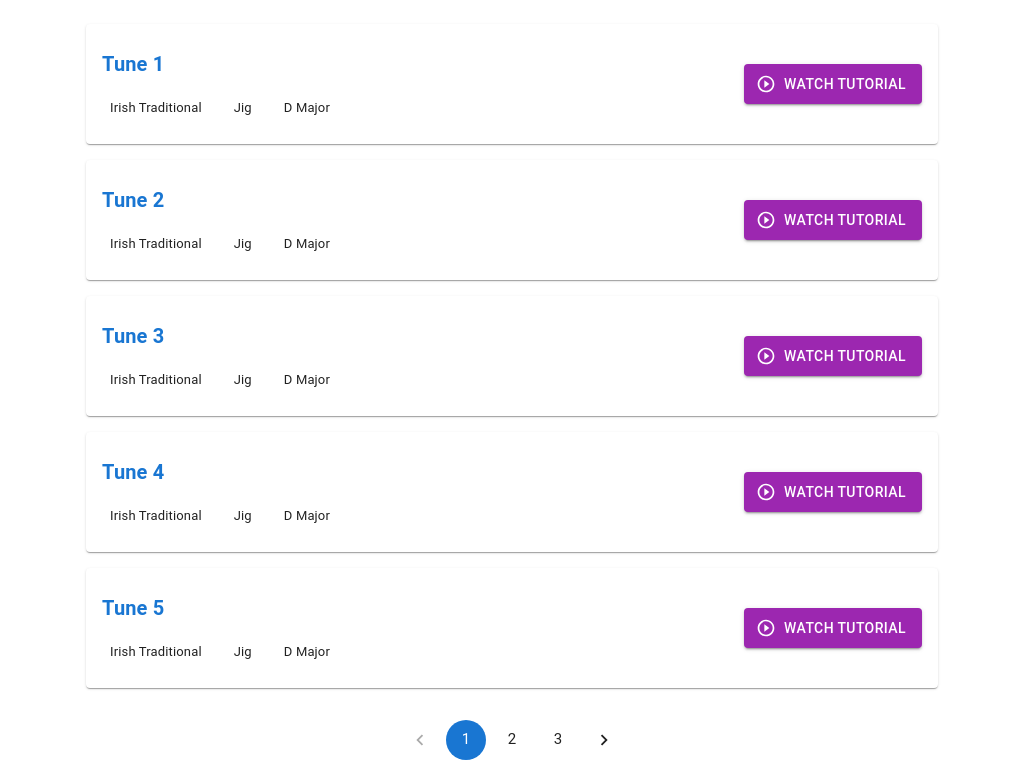
Scenario: SearchResults › Pagination › should show correct items on last page
The image size is (1024, 768).
Click the button named "Go to page 3".
click(558, 740)  # box 538,720 -> 578,760
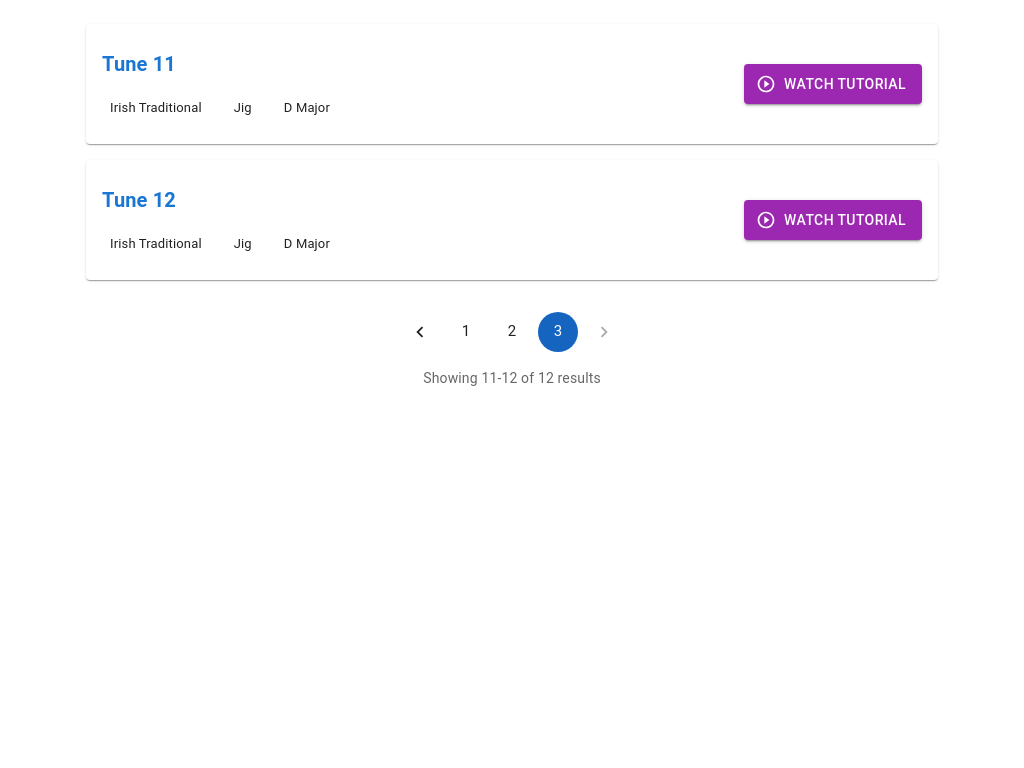
Now the heading "Tune 11" is shown, box 102,52 -> 176,76
Now the heading "Tune 12" is shown, box 102,188 -> 176,212
Now the text "Showing 11-12 of 12 results" is shown, box 423,368 -> 601,388
